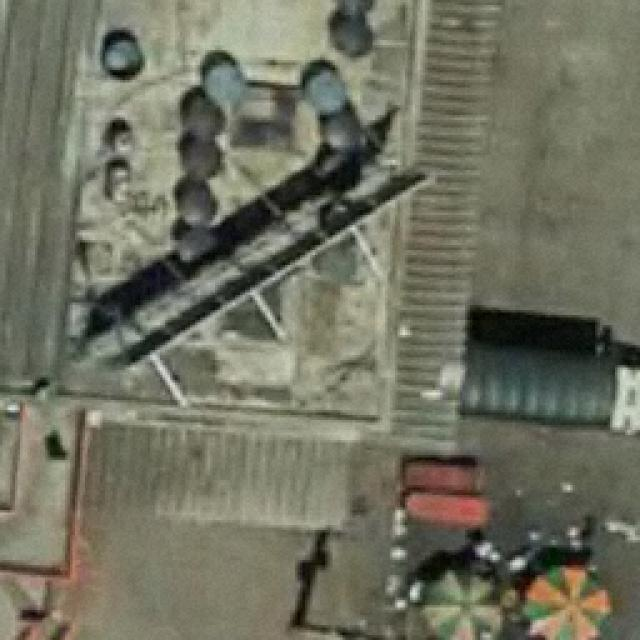vendedor_ambulante: (523, 557, 617, 640), (419, 558, 513, 640)
